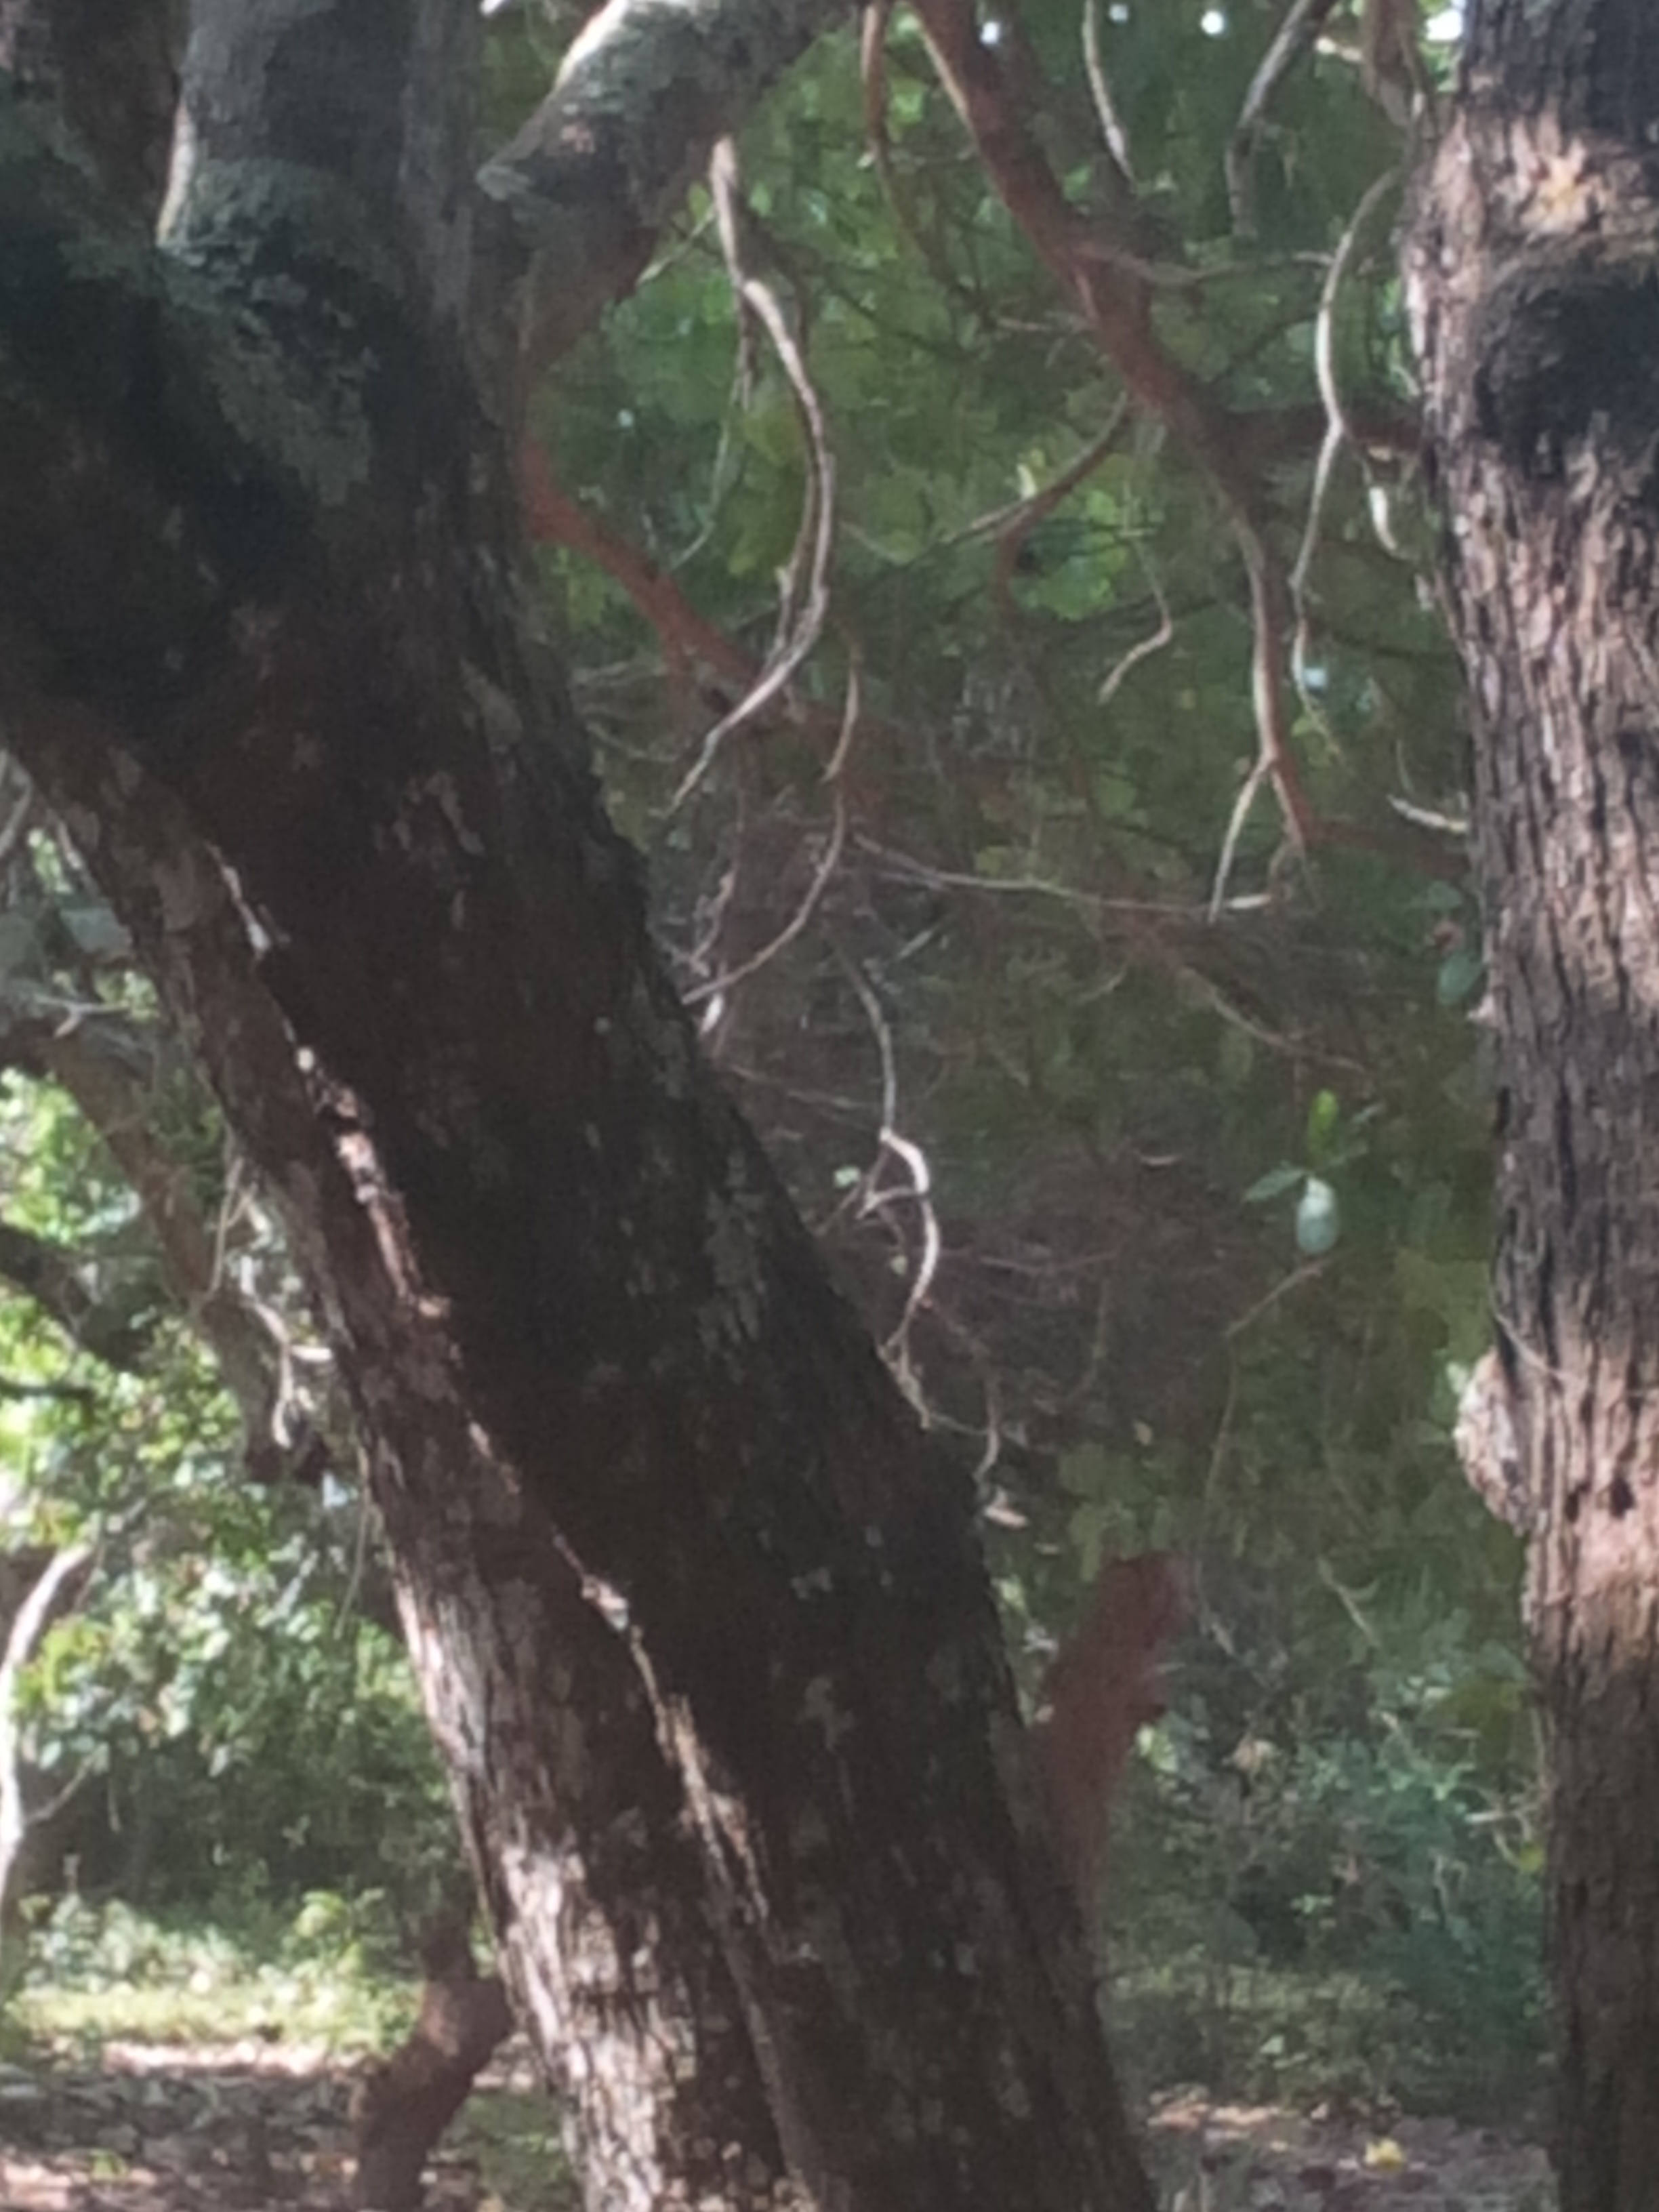Termites: (507, 442, 748, 683), (1056, 1561, 1159, 1883)
